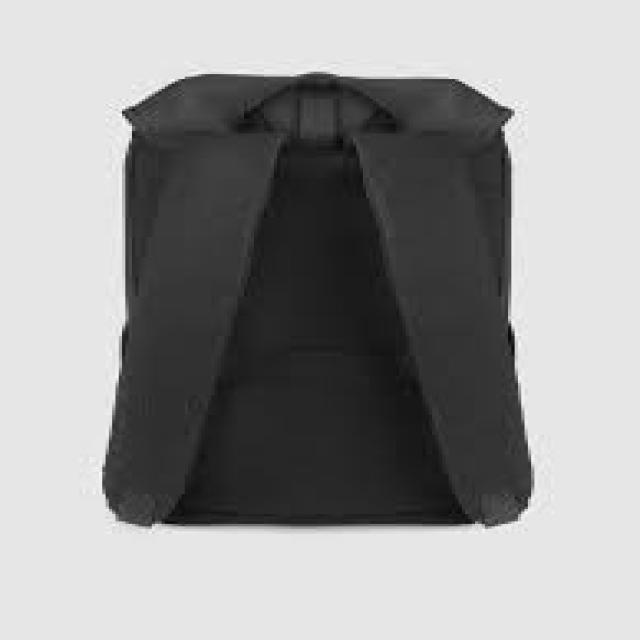backpack: (100, 71, 535, 528)
